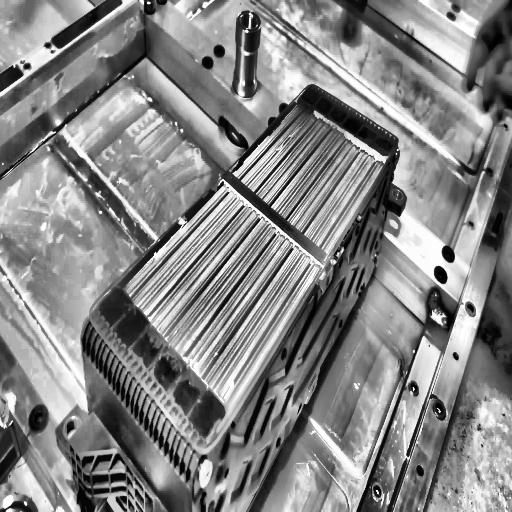battery_module: (79, 82, 399, 512)
